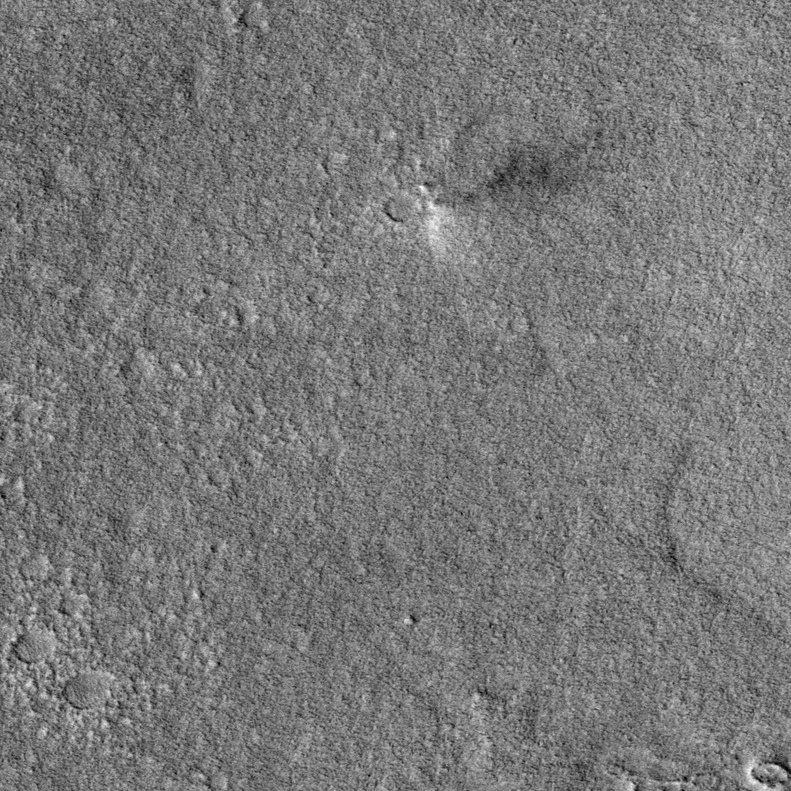dust_devil: (417, 146, 576, 266)
